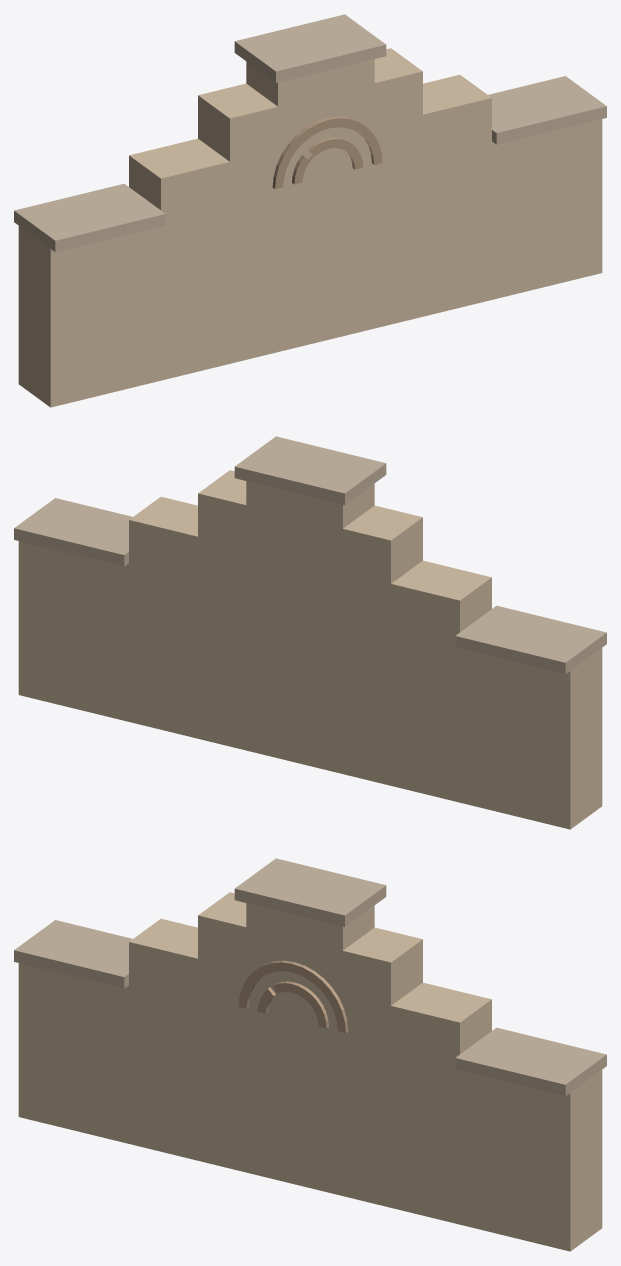
Rendered from city_parapet_step_4.glb.
3 views of the same model, one above another, from view 1: azimuth 30°, elevation 25°; view 2: azimuth 150°, elevation 25°; view 3: azimuth 330°, elevation 25° (orthographic).
Visible parts, largest first — view 1: CityParapetStep4_Wall, CityParapetStep4_CrownCoping, CityParapetStep4_Coping, CityParapetStep4_Coping2, CityParapetStep4_Sun; view 2: CityParapetStep4_Wall, CityParapetStep4_CrownCoping, CityParapetStep4_Coping, CityParapetStep4_Coping2; view 3: CityParapetStep4_Wall, CityParapetStep4_CrownCoping, CityParapetStep4_Coping2, CityParapetStep4_Coping, CityParapetStep4_Sun.
Boxes of the visible parts, <box> form: CityParapetStep4_Wall: <box>18,48,602,407</box>; CityParapetStep4_CrownCoping: <box>234,14,386,82</box>; CityParapetStep4_Coping: <box>14,183,165,252</box>; CityParapetStep4_Coping2: <box>488,76,606,144</box>; CityParapetStep4_Sun: <box>272,116,382,188</box>; CityParapetStep4_Wall: <box>18,470,602,829</box>; CityParapetStep4_CrownCoping: <box>234,436,386,504</box>; CityParapetStep4_Coping: <box>455,605,606,674</box>; CityParapetStep4_Coping2: <box>14,498,132,566</box>; CityParapetStep4_Wall: <box>18,892,602,1251</box>; CityParapetStep4_CrownCoping: <box>234,858,386,926</box>; CityParapetStep4_Coping2: <box>455,1027,606,1096</box>; CityParapetStep4_Coping: <box>14,920,132,988</box>; CityParapetStep4_Sun: <box>238,960,348,1032</box>.
Bounding box in the file's own units: 4 × 1.98 × 0.52.
